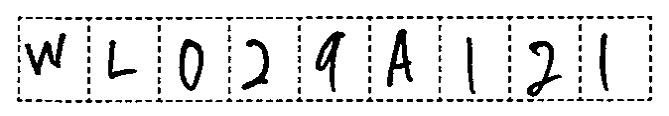0: (173, 33, 208, 94)
1: (453, 34, 490, 98), (590, 29, 626, 94)
2: (519, 36, 564, 98), (236, 33, 276, 94)
9: (309, 27, 350, 93)
A: (380, 23, 420, 93)
L: (98, 37, 143, 89)
W: (21, 25, 73, 81)
